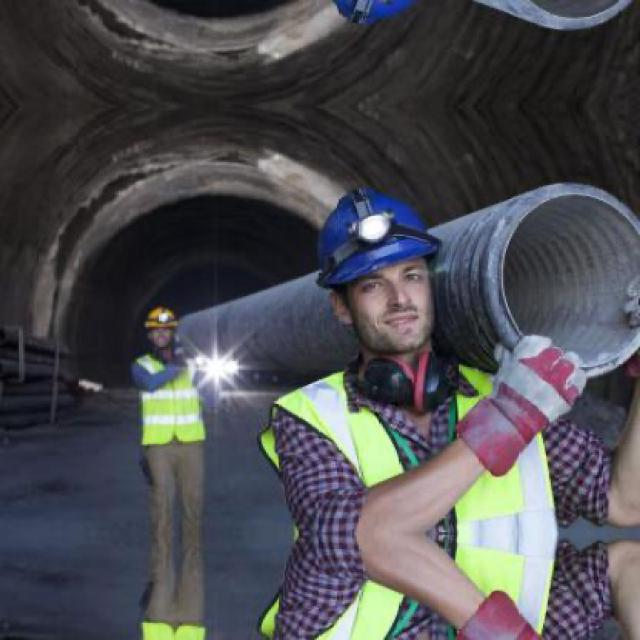con casco: (134, 299, 232, 355)
